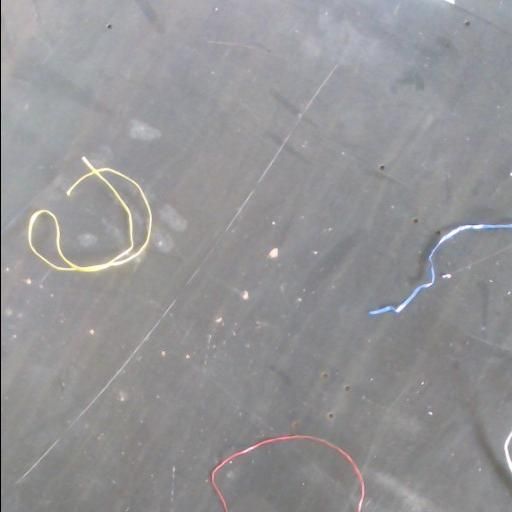conveyor belt: (1, 0, 512, 511), (218, 442, 356, 511)
thread: (27, 156, 152, 272), (369, 223, 512, 313), (209, 435, 364, 511)
